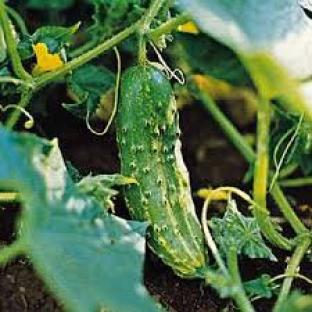Cucumber: (117, 67, 206, 277)
